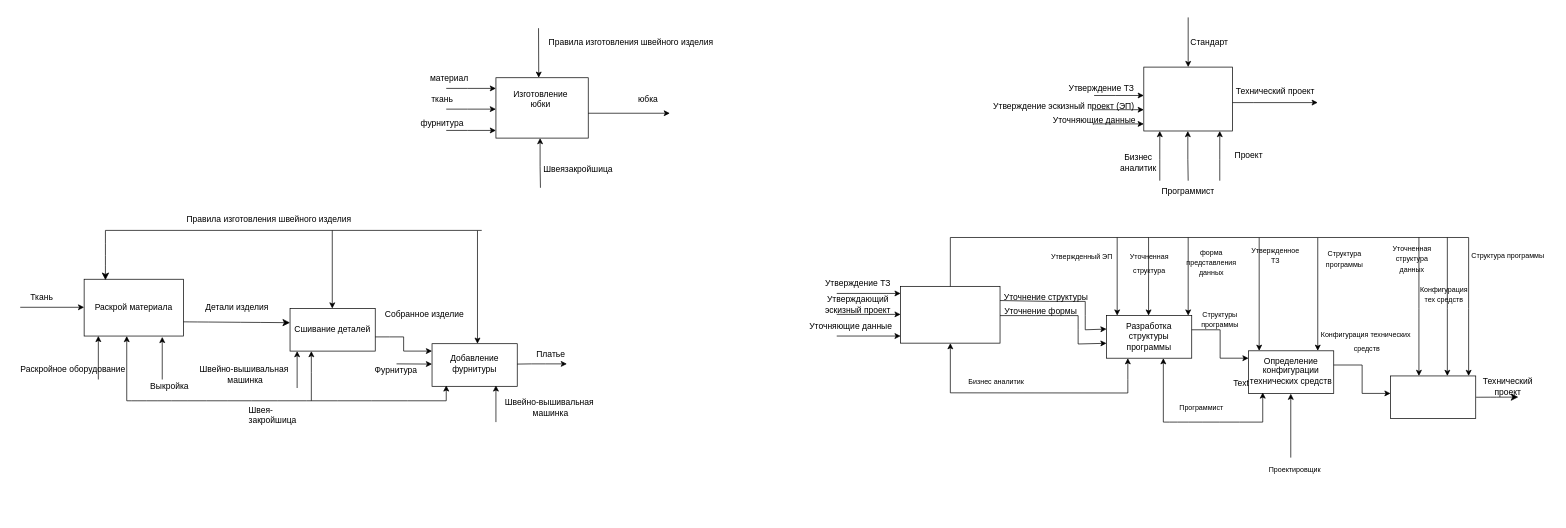
Image size: 1566x528. Some labels were removed from this diagram. Each missing label, with the centre of its shape:
"Подготовка Пояснительной записки к ТП" belongs at [1433,397].
"Уточнение структуры и формы представления входных и выходных данных" belongs at [950,314].
"Формирование Технического проекта (ТП)" belongs at [1188,98].
